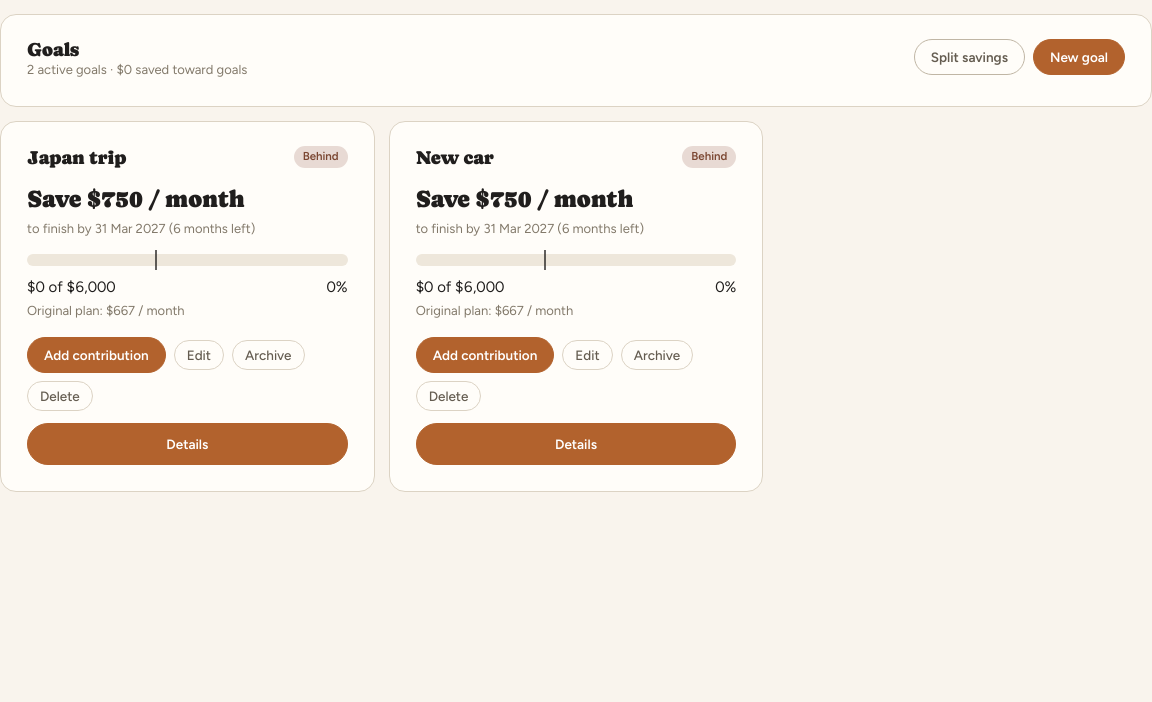
Test: Split savings › writes the split, confirms in one line, and reloads the Goals
Step 1. Click the button "Split savings" → coordinates (969, 57), box [914,39,1025,75]
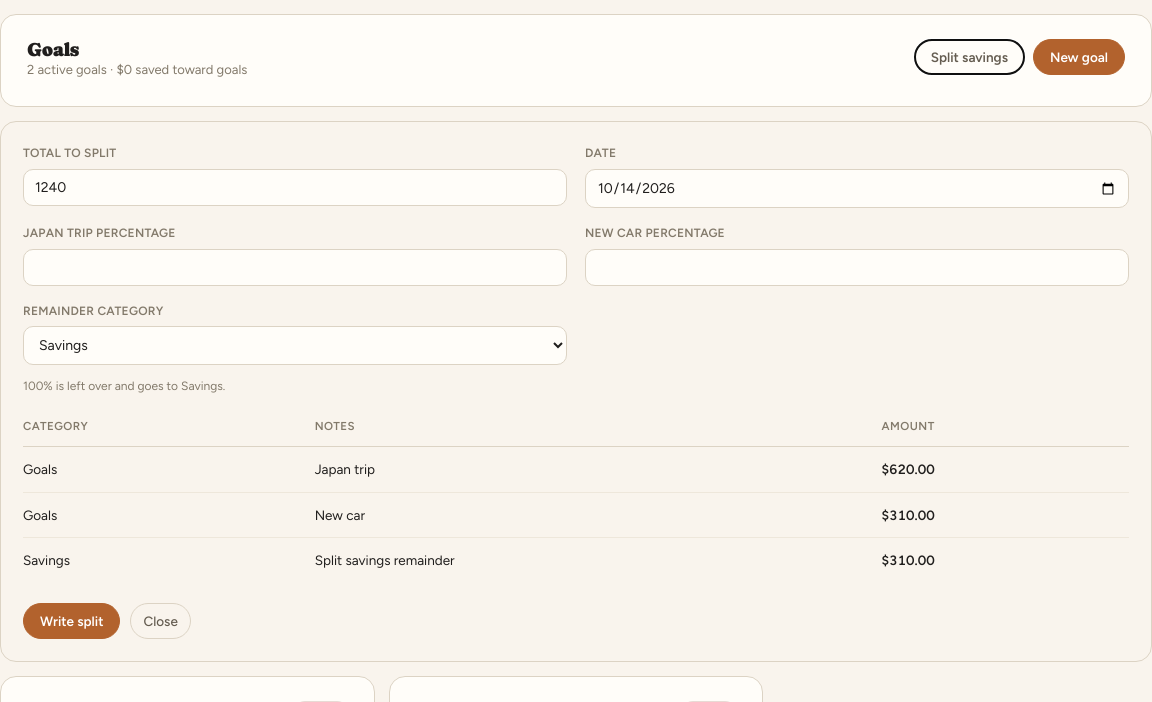
Step 2. Type "50" into the number field labelled "Japan trip percentage" → coordinates (295, 267), box [23,249,567,286]
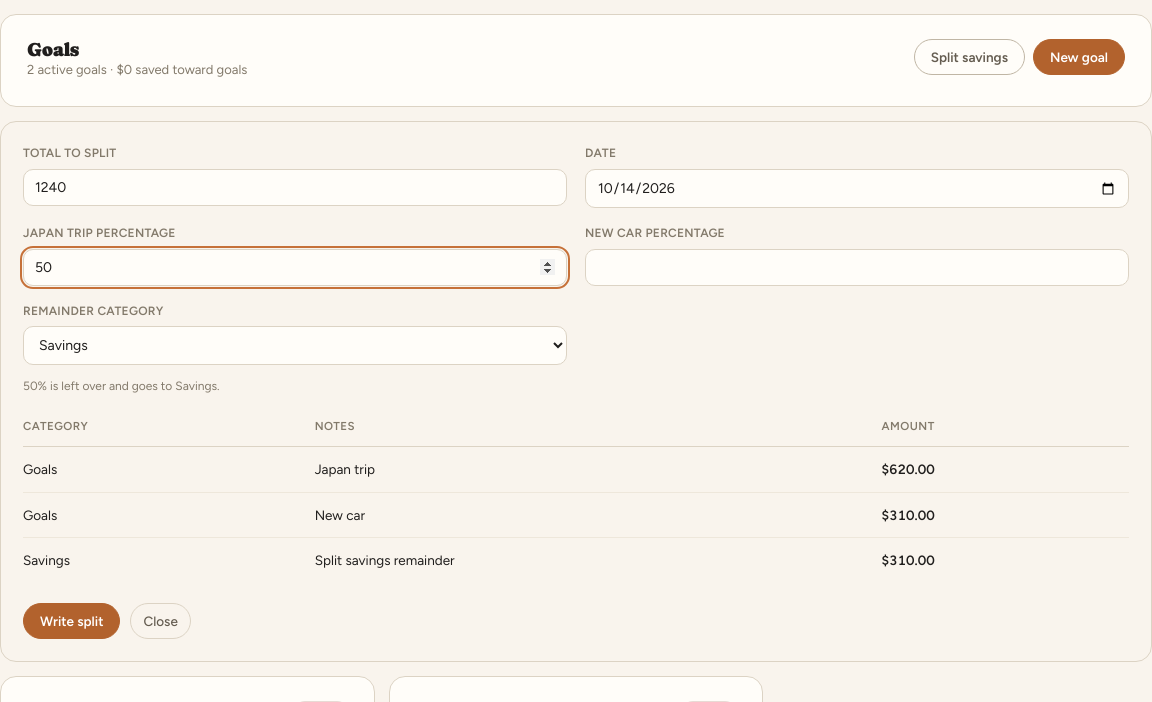
Step 3. Type "25" into the number field labelled "New car percentage" → coordinates (857, 267), box [585,249,1129,286]
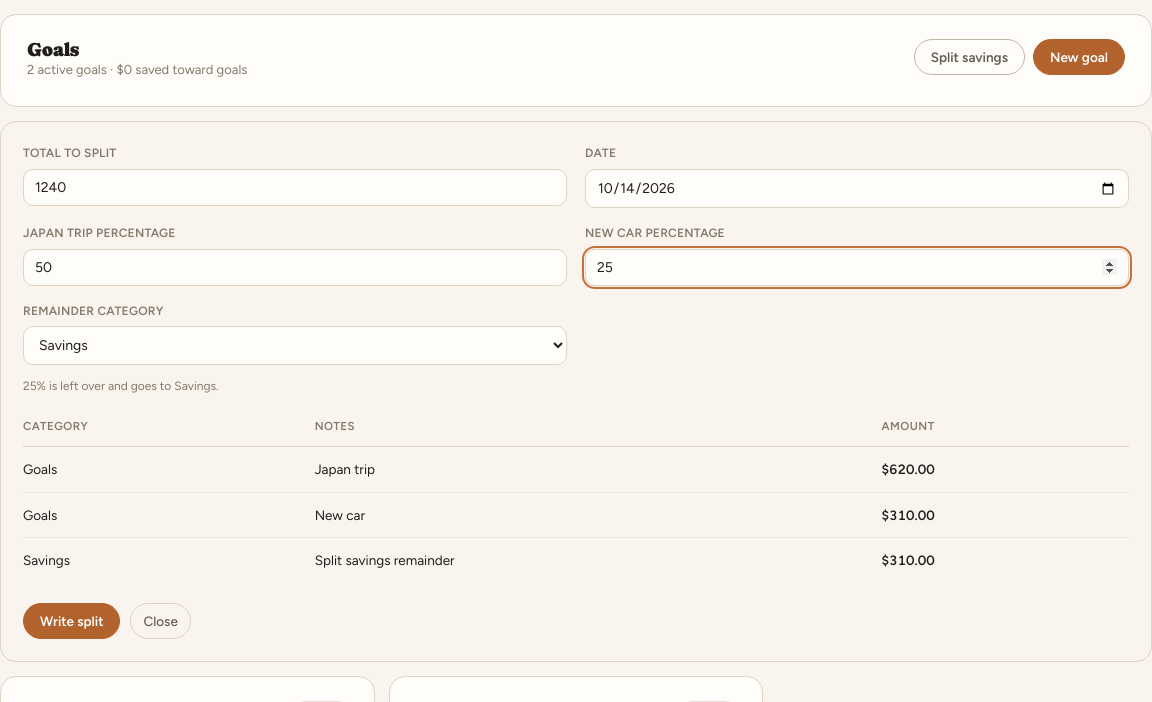
Now the text "Split savings remainder" is shown, box [315,538,882,583]
Step 4. Click the button "Write split" → coordinates (72, 621), box [23,603,120,639]
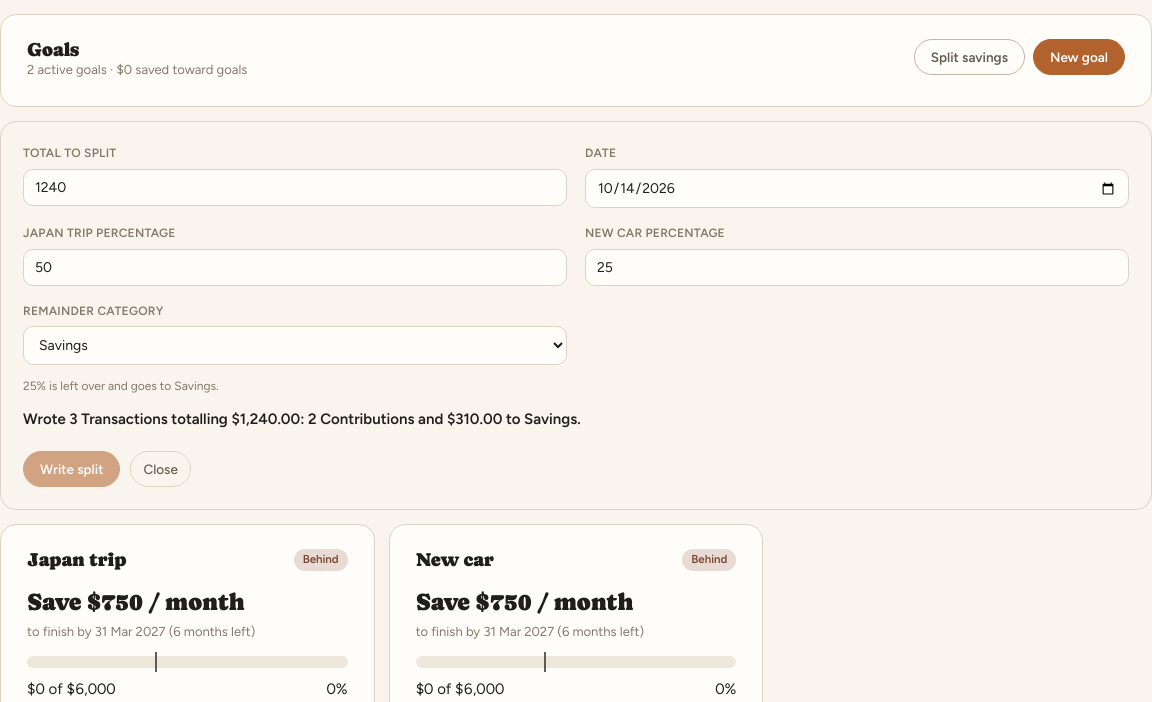
Now the text "Wrote 3 Transactions totalling $1,240.00: 2 Contributions and $310.00 to Savings." is shown, box [23,410,581,428]
